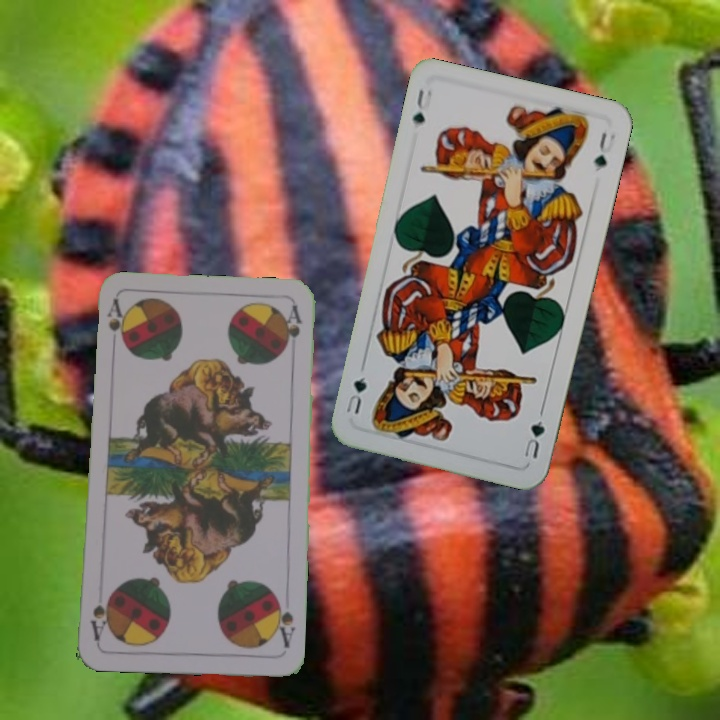GU: (520, 416, 548, 461), (408, 85, 435, 127)
SA: (270, 593, 297, 650), (103, 296, 124, 338)
